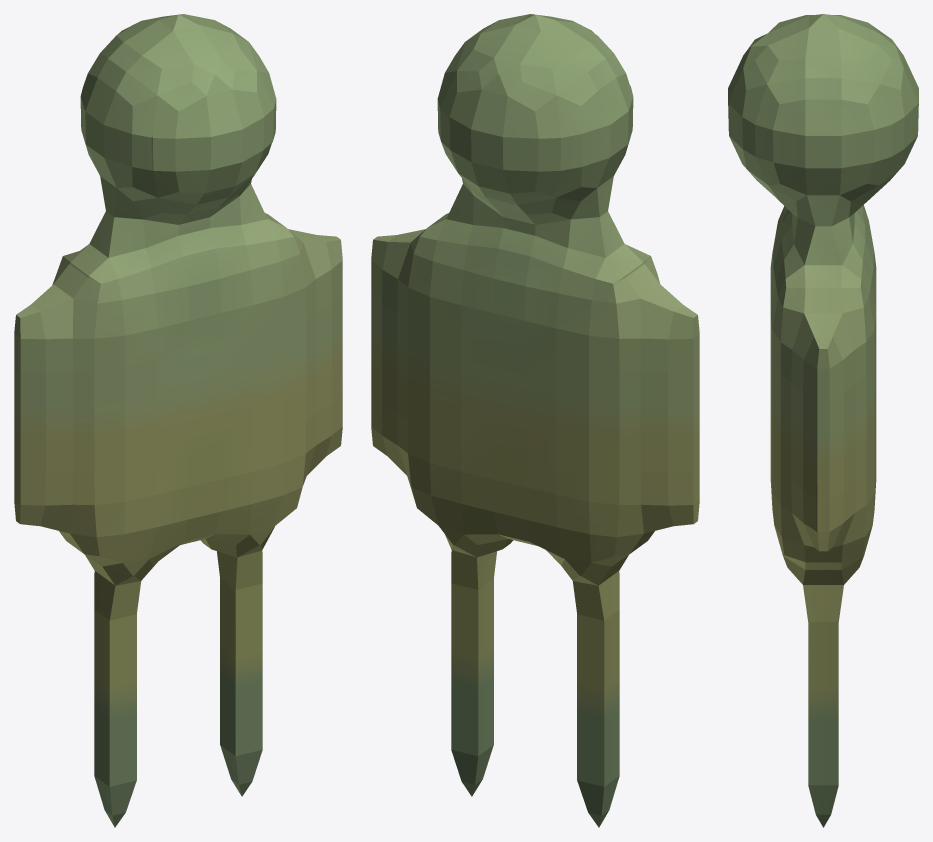
File: skeleton.glb
The picture shows the model from 3 angles, left to right: view 1: azimuth 30°, elevation 25°; view 2: azimuth 150°, elevation 25°; view 3: azimuth 270°, elevation 25°; orthographic projection.
Visible parts, largest first — view 1: geometry_0; view 2: geometry_0; view 3: geometry_0.
Part boxes in pixels (x1,y1,x2,y2): geometry_0: (14,14,342,827); geometry_0: (371,14,699,827); geometry_0: (728,14,918,827).
Size of the model in its own units: 0.4226 by 1 by 0.2207.
1 material, 1 textured.
